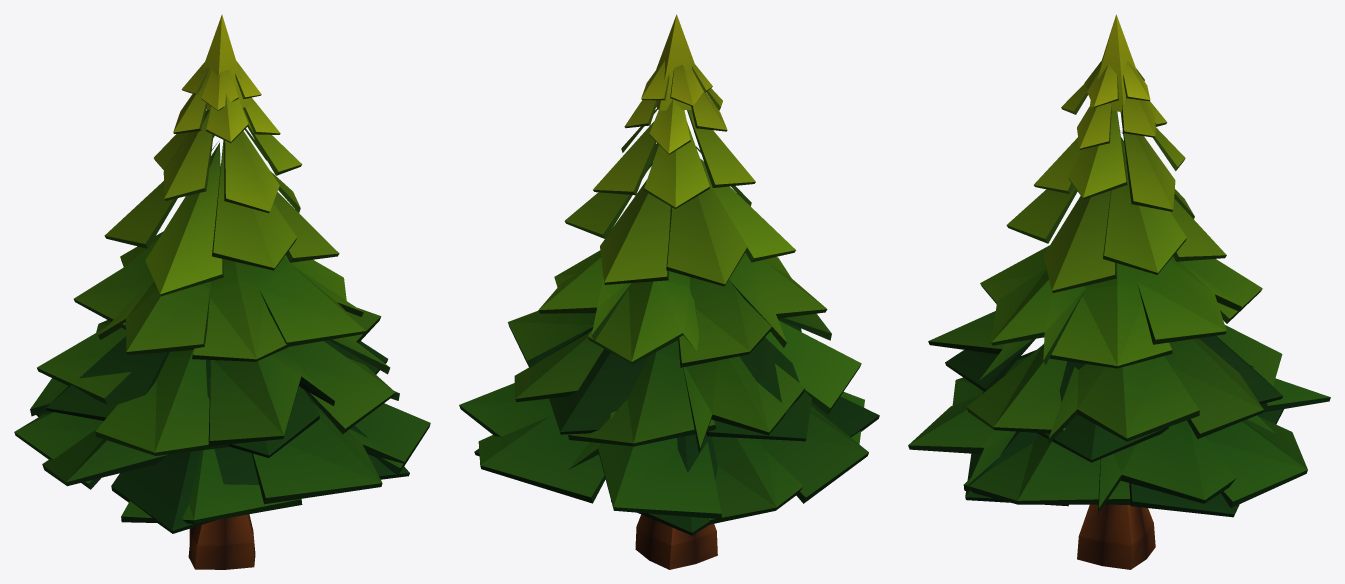
File: pine_tree_mid.glb
The picture shows the model from 3 angles, left to right: view 1: azimuth 30°, elevation 25°; view 2: azimuth 150°, elevation 25°; view 3: azimuth 270°, elevation 25°; orthographic projection.
Parts seen in each view (by area): view 1: pine_tree_mid; view 2: pine_tree_mid; view 3: pine_tree_mid.
Part boxes in pixels (<box>): pine_tree_mid: <box>14,14,430,569</box>; pine_tree_mid: <box>459,14,879,569</box>; pine_tree_mid: <box>908,14,1330,569</box>.
Bounding box in the file's own units: 4.59 × 6.8 × 4.83.
